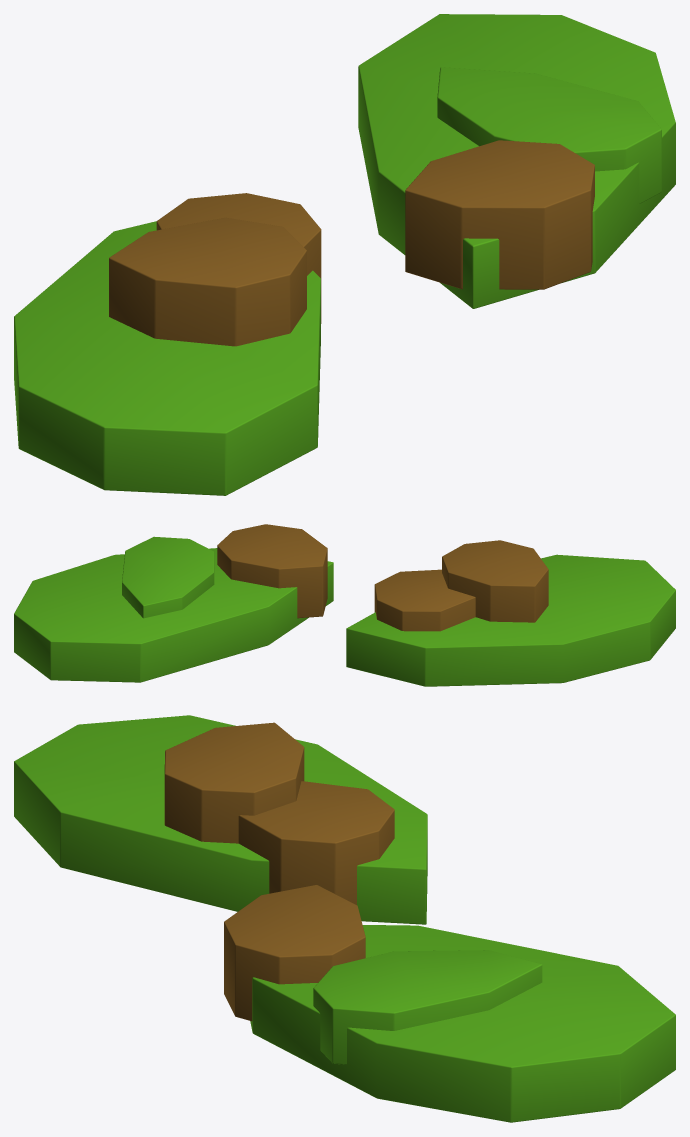
Rendered from mountainEnviro.fbx.
3 renders of one model, top to bottom at view 1: azimuth 30°, elevation 25°; view 2: azimuth 150°, elevation 25°; view 3: azimuth 270°, elevation 25°, orthographic. The views are drawn at different scales.
Visible parts, largest first — view 1: canyonTunel.001; view 2: canyonTunel.001; view 3: canyonTunel.001.
Boxes of the visible parts, x1,y1,x2,y2 form: canyonTunel.001: [14, 14, 675, 495]; canyonTunel.001: [14, 524, 675, 686]; canyonTunel.001: [14, 715, 675, 1122].
Size of the model in its own units: 20.24 by 2.9 by 16.07.
